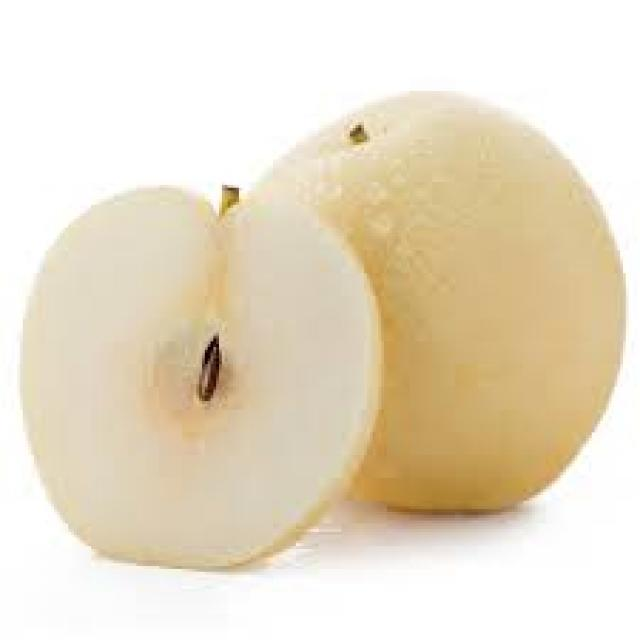organic waste: (242, 85, 623, 515), (17, 176, 378, 566)
